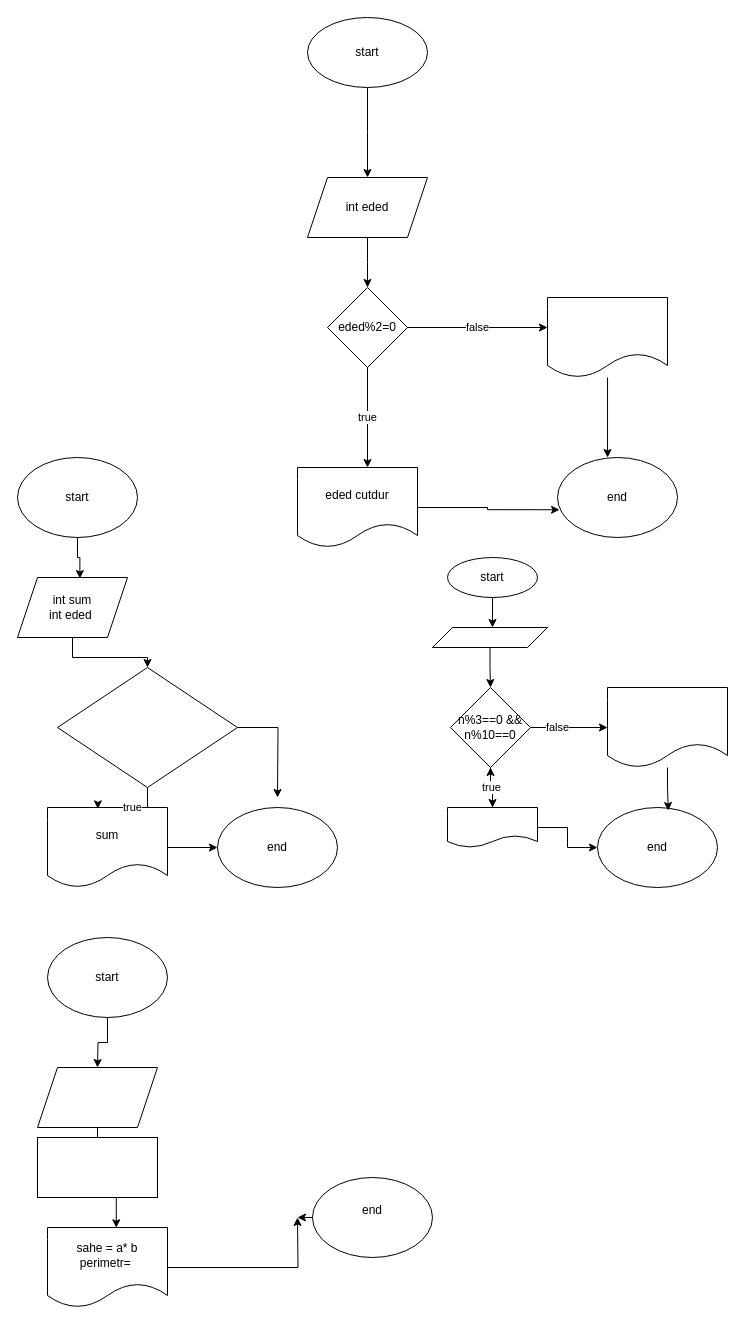
Some shapes in this 745 by 1325 pixel diagram are drawn without their labels. The box of each missing label's shape, as (x1, y1, x2, y2) in pixels:
eded tekdir: (546, 296, 668, 378)
int a int b int sahe int perimetr: (36, 1066, 158, 1128)
int eded<=100 eded%2==1, sum+=eded, eded++: (56, 666, 238, 788)
int n: (432, 626, 548, 648)
sahe = a* b perimetr= 2(a+b): (36, 1136, 158, 1198)
sert odenilir: (446, 806, 538, 848)
sert odenilmir: (606, 686, 728, 768)
